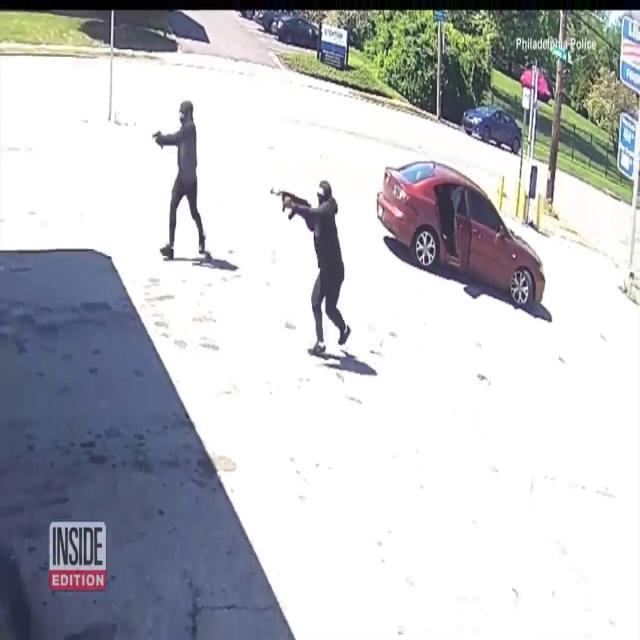penembakan: (267, 172, 353, 358), (154, 100, 214, 270)
